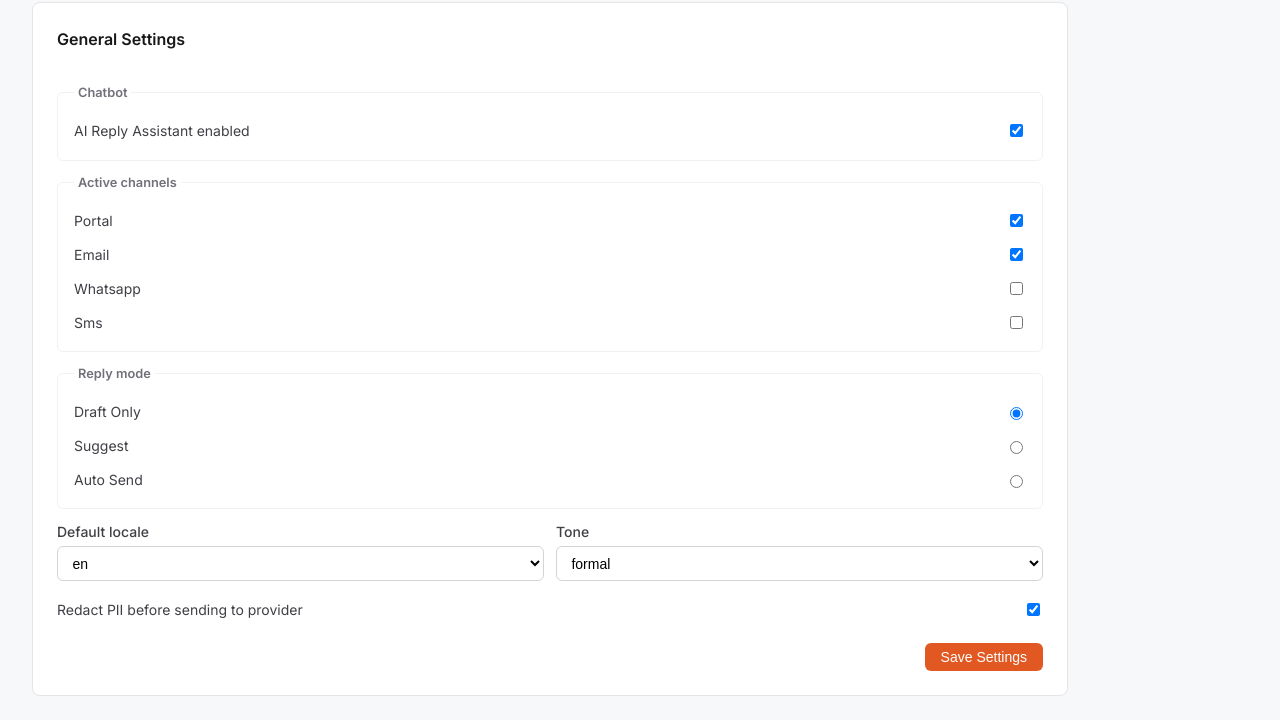
Test: AIAssistantSettings page › General tab › shows save confirmation after successful save
(page scrolled)
What coordinates should you click on to do the following:
click the button "Save Settings"
I would click on:
 (984, 657)
Its box is [925,643,1043,671].
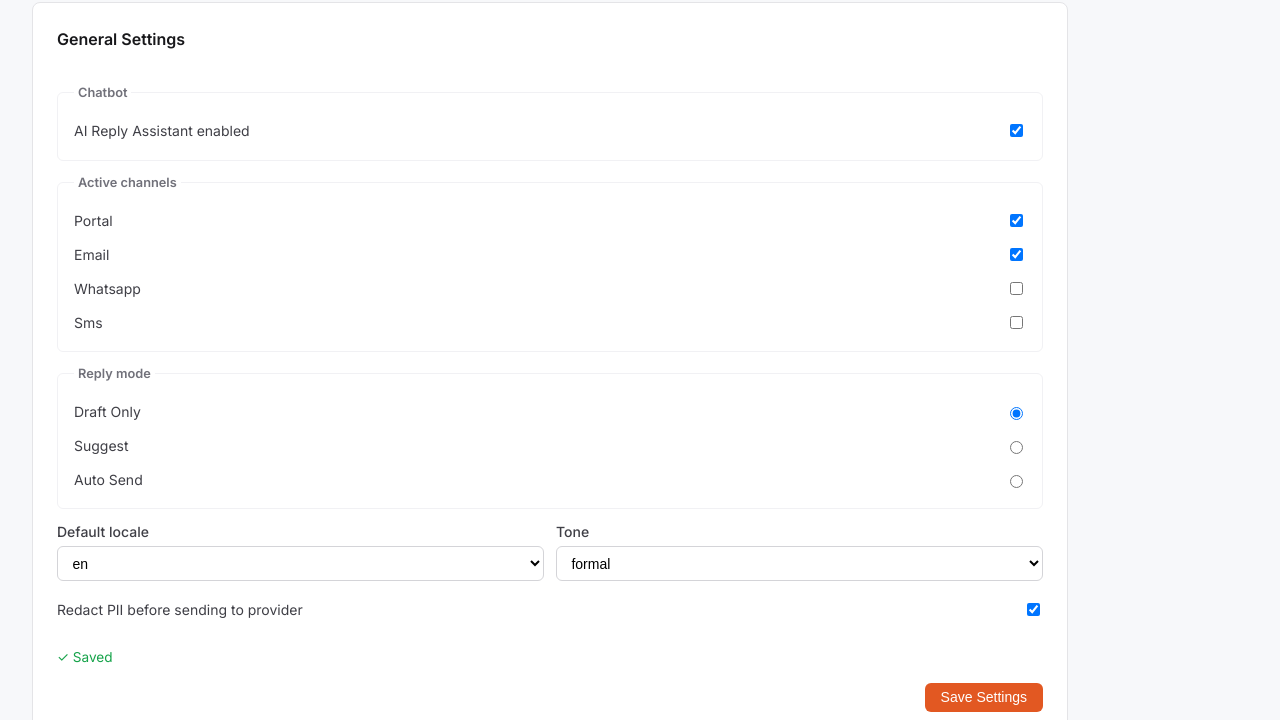
Now the text "✓ Saved" is shown, box [57,649,113,665]
